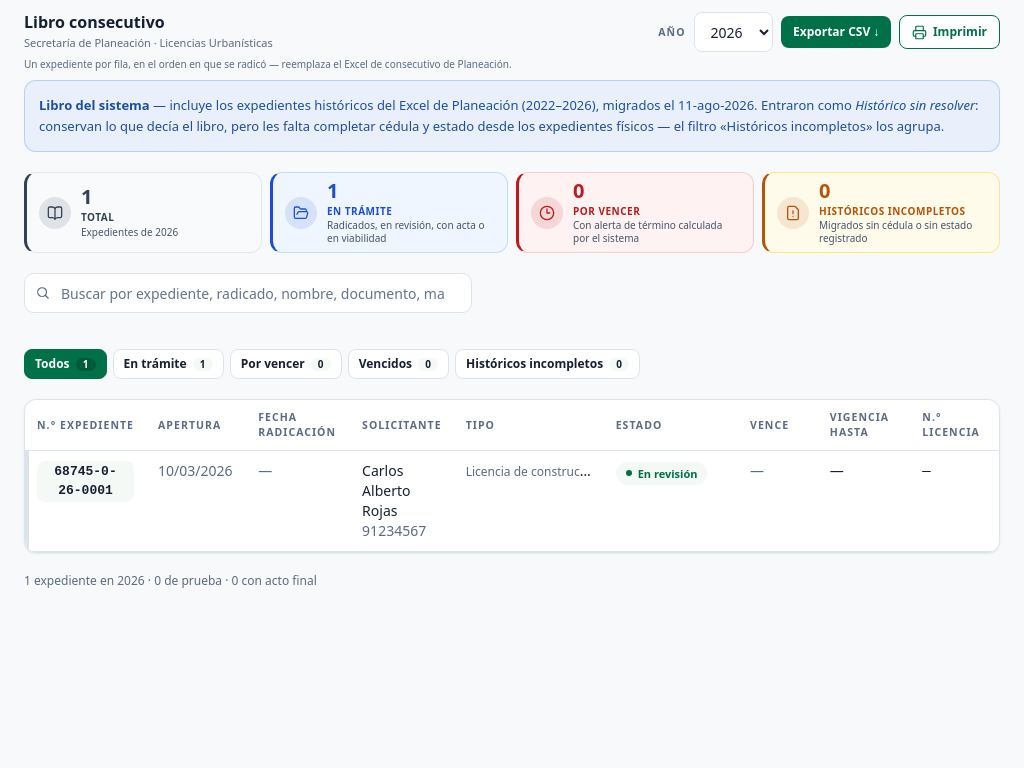
Test: LibroConsecutivoClient › buscador rápido: sin coincidencias muestra el término buscado y un botón para limpiar (nunca una tabla vacía muda)
Select "2026" in the dropdown named "Año del libro consecutivo" at (733, 32), box top-left (694, 12), bottom-right (773, 52)
Expected: the text "68745-0-26-0001" is shown, top-left (37, 461), bottom-right (134, 502)
Replace the text in the search field named "Buscar en el libro consecutivo por expediente, radicado, solicitante, documento, matrícula inmobiliaria, tipo o estado" with "no-existe-este-termino" at (248, 293), box top-left (24, 273), bottom-right (472, 313)
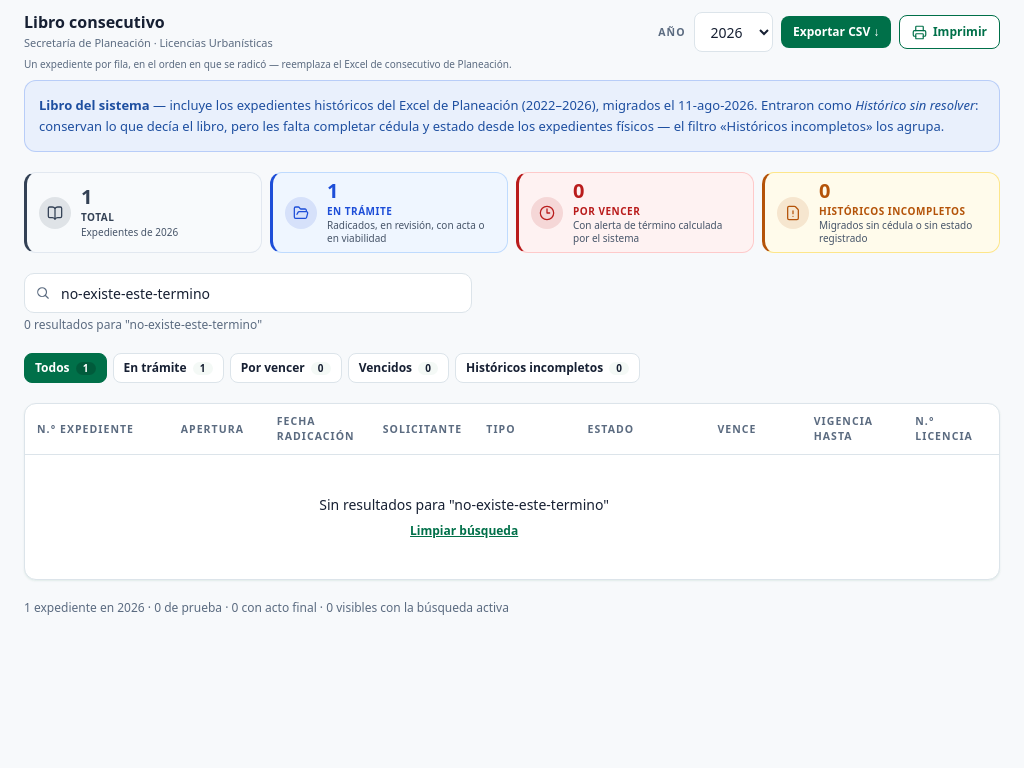
Expected: the text "Sin resultados para \"no-existe-este-termino\"" is shown, top-left (319, 495), bottom-right (609, 515)
Click the button "Limpiar búsqueda" at (464, 531), box top-left (410, 523), bottom-right (518, 539)
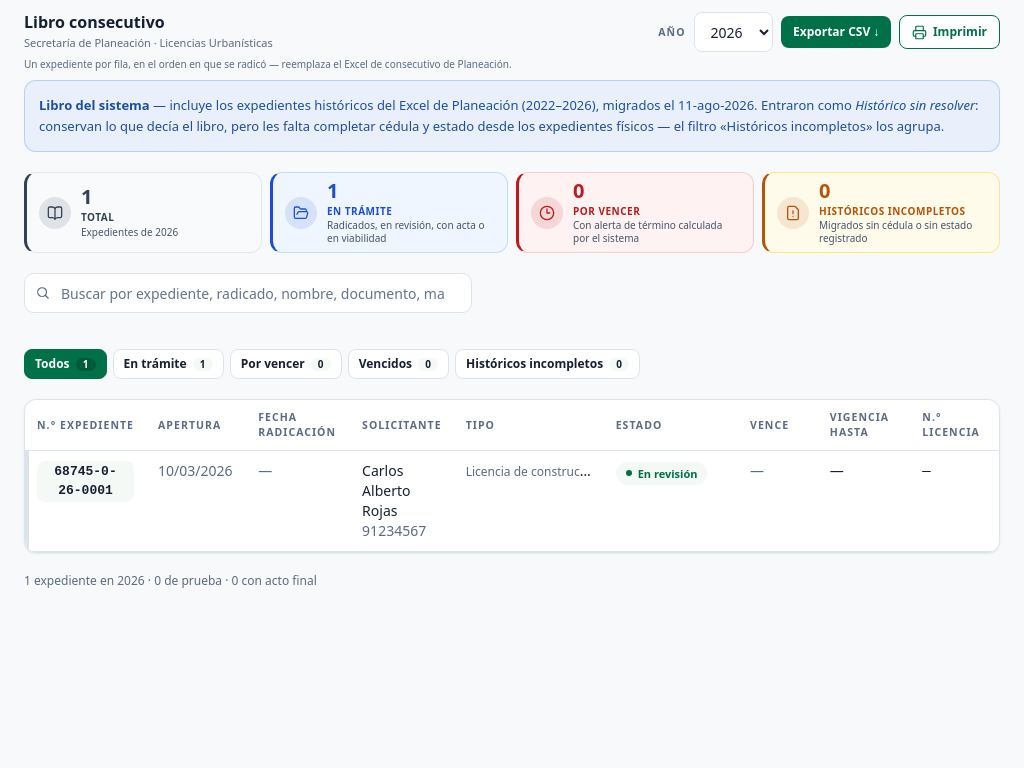
Expected: the text "68745-0-26-0001" is shown, top-left (37, 461), bottom-right (134, 502)
Expected: the search field named "Buscar en el libro consecutivo por expediente, radicado, solicitante, documento, matrícula inmobiliaria, tipo o estado" is empty, top-left (24, 273), bottom-right (472, 313)
